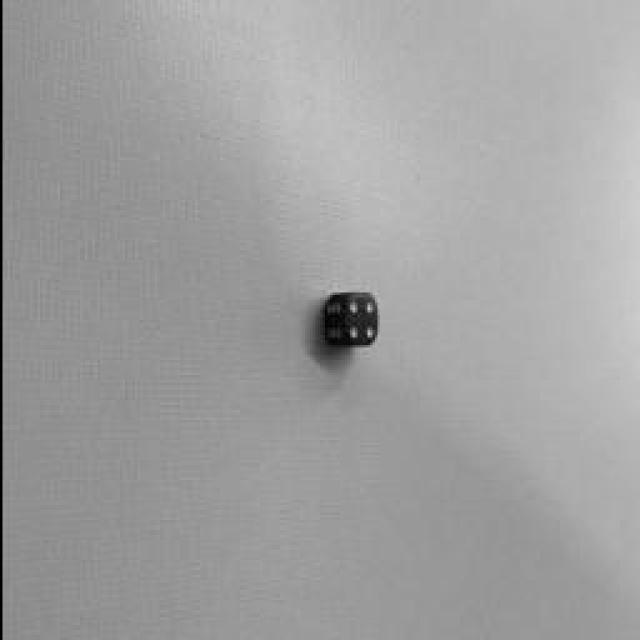dice_4: (340, 292, 375, 346)
